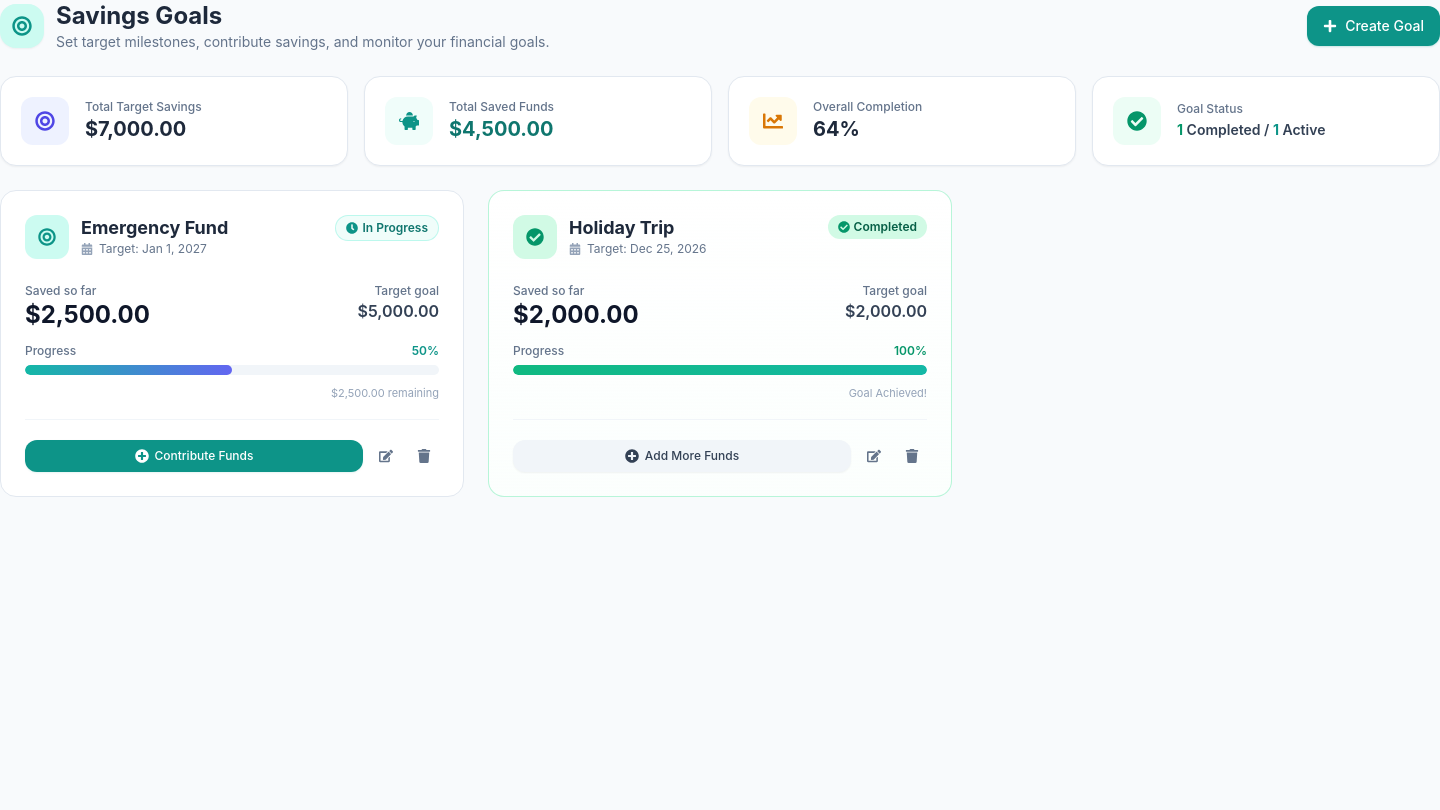
Test: GoalsPage Component › opens GoalModal in Contribute mode when quick contribute is clicked on a card
The image size is (1440, 810).
Click the button with test id "goal-contribute-button" at (194, 456), box [25, 440, 363, 472]
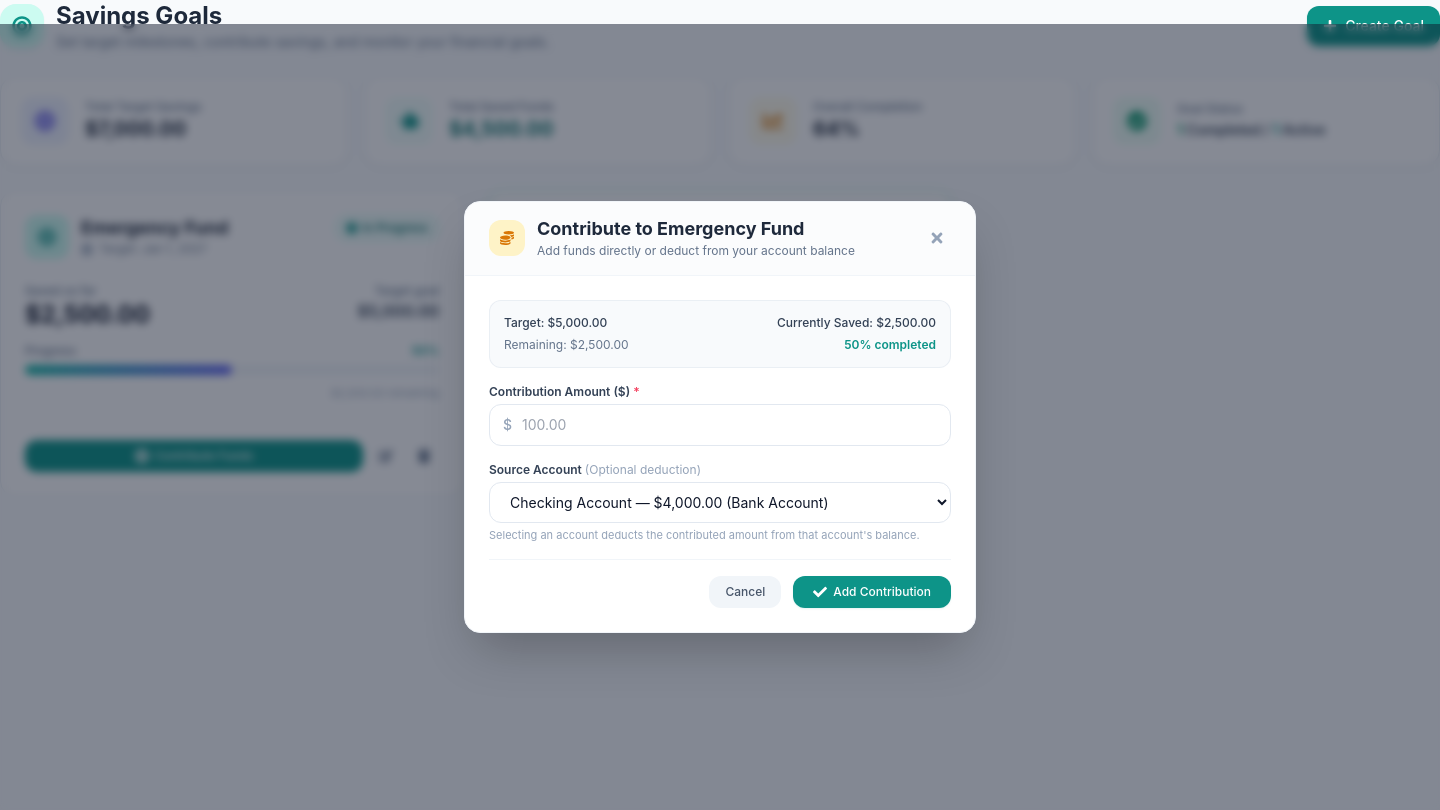
Expected: the dialog with test id "goal-modal" is shown
Expected: the heading "Contribute to Emergency Fund" is shown, [537, 218, 804, 239]
Expected: the number field with test id "goal-contribution-amount-input" is shown, [489, 404, 951, 446]
